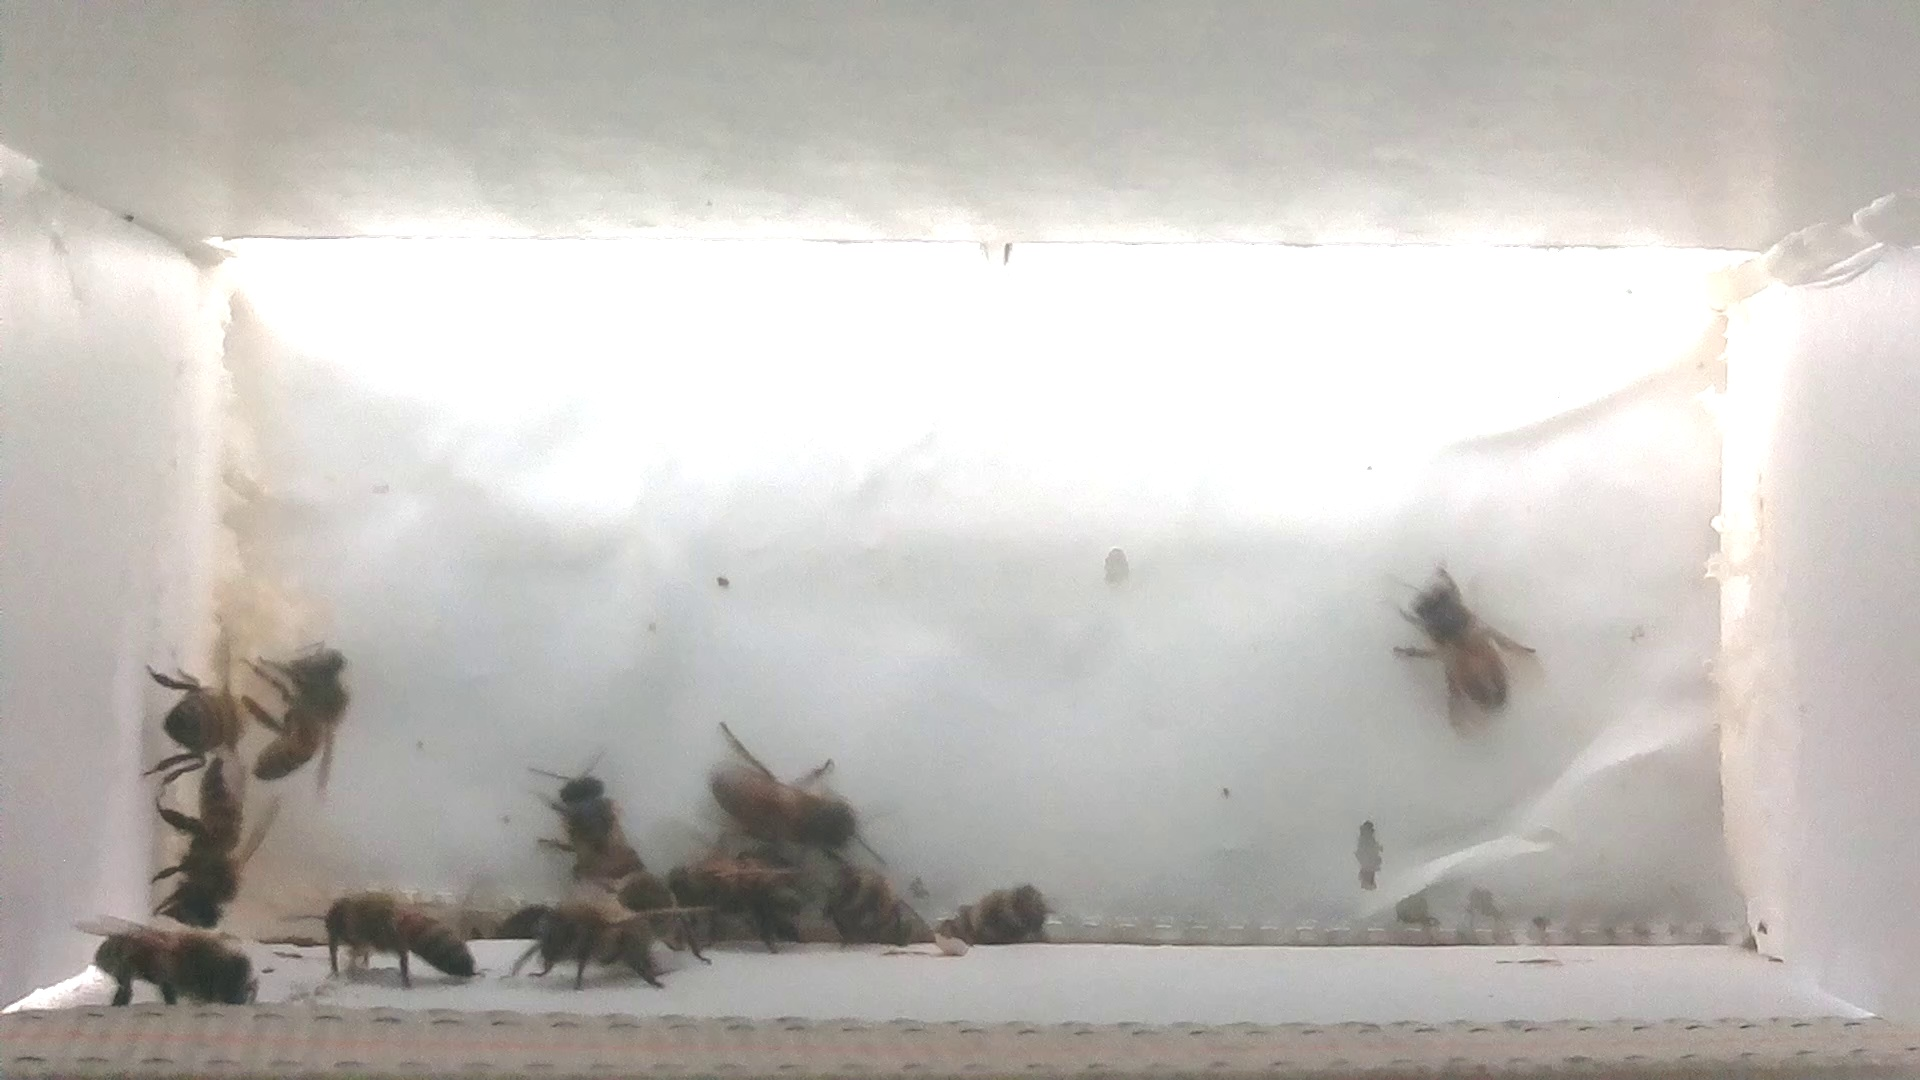bee: (1374, 554, 1551, 738), (274, 861, 498, 1001), (49, 895, 278, 1025), (694, 711, 881, 866), (500, 728, 655, 895), (225, 624, 364, 796), (506, 887, 690, 1000), (152, 756, 274, 905), (665, 843, 818, 953), (128, 647, 251, 775), (814, 840, 936, 967), (928, 864, 1064, 957)
